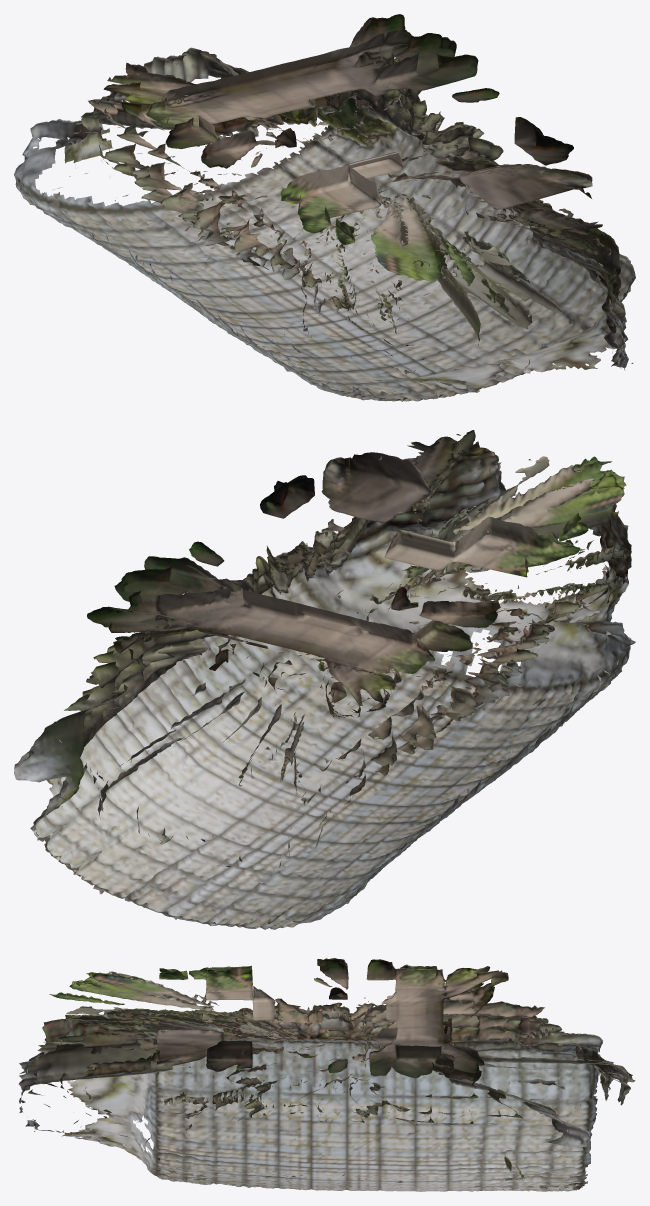
The model's file is world-1771030444076.glb.
3 renders of one model, top to bottom at view 1: azimuth 30°, elevation 25°; view 2: azimuth 150°, elevation 25°; view 3: azimuth 270°, elevation 25°, orthographic. The views are drawn at different scales.
Parts seen in each view (by area): view 1: world; view 2: world; view 3: world.
Boxes of the visible parts, x1,y1,x2,y2 form: world: [14, 14, 635, 401]; world: [14, 430, 635, 929]; world: [19, 958, 635, 1191].
Size of the model in its own units: 5.66 by 3.49 by 11.59.
